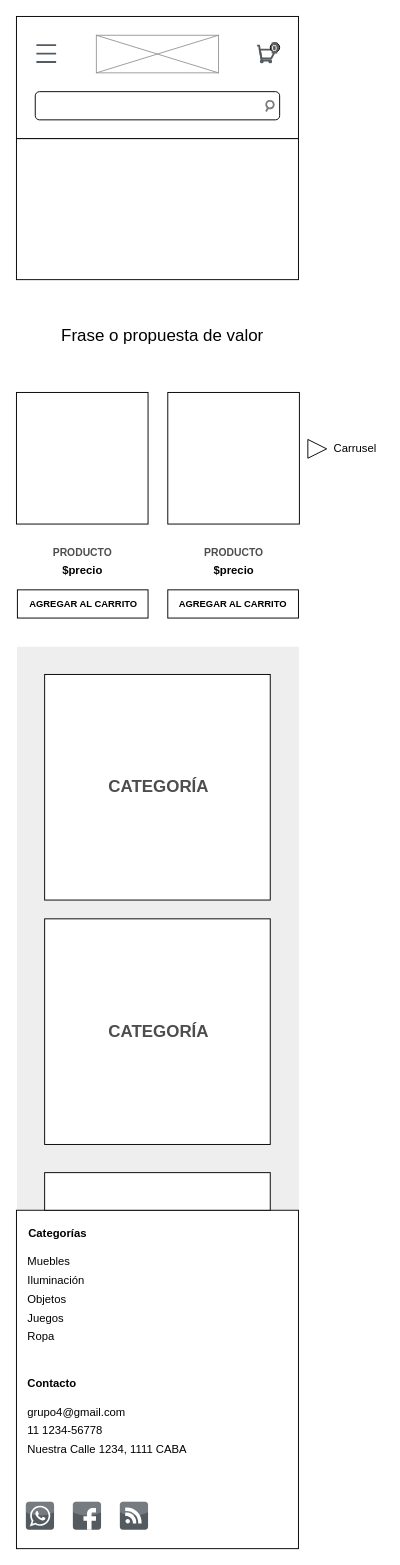
This 400x1565 diagram has some shape labels left out. Each missing label, with the centre of its shape:
"PORTADA" goes at (157,209).
"¿Qué estás buscando?" goes at (157,105).
